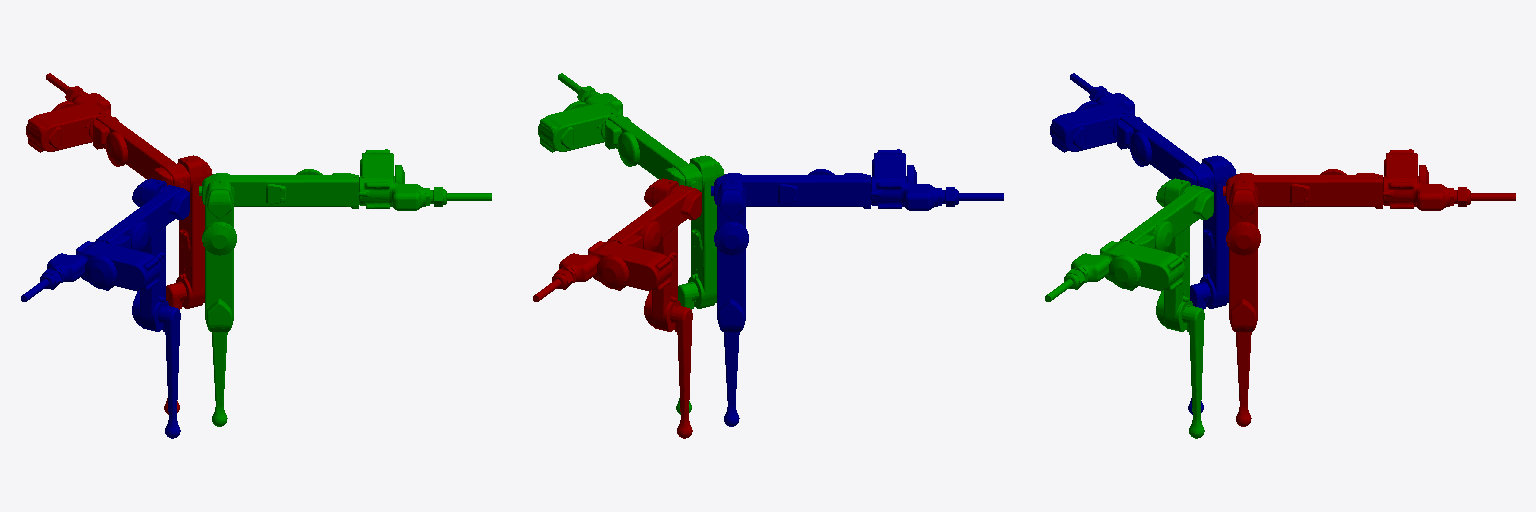
robot.urdf — finger_with_stage:
<?xml version="1.0" ?>
<!-- =================================================================================== -->
<!-- |    This document was autogenerated by xacro from robot_properties_fingers/xacro/trifinger.urdf.xacro | -->
<!-- |    EDITING THIS FILE BY HAND IS NOT RECOMMENDED                                 | -->
<!-- =================================================================================== -->
<robot name="finger_with_stage">
  <!--
    Frames are defined such that they all align with the base frame when all
    joints are at position zero.

    In zero-configuration the origins of all joints are in one line.

    In zero-configuration the origin of the base link is exactly above the
    finger tip which should make it easy to place the finger in the world.
    -->
  <!-- Define the global base_link and place all other objects relative to it. -->
  <link name="base_link">
    <inertial>
      <origin rpy="0 0 0" xyz="0 0 0"/>
      <mass value="1"/>
      <inertia ixx="4.166666666666667e-06" ixy="0" ixz="0" iyy="4.166666666666667e-06" iyz="0" izz="4.166666666666667e-06"/>
    </inertial>
  </link>
  <!-- Define the upper holder -->
  <link name="upper_holder_link">
    <inertial>
      <origin rpy="0 0 0" xyz="0 0 0"/>
      <mass value="1"/>
      <inertia ixx="4.166666666666667e-06" ixy="0" ixz="0" iyy="4.166666666666667e-06" iyz="0" izz="4.166666666666667e-06"/>
    </inertial>
  </link>
  <joint name="base_to_upper_holder_joint" type="fixed">
    <parent link="base_link"/>
    <child link="upper_holder_link"/>
    <origin xyz="0 0 0.29"/>
  </joint>
  <material name="finger_0_material">
    <color rgba="0.6 0.0 0.0 1.0"/>
  </material>
  <material name="finger_120_material">
    <color rgba="0.0 0.6 0.0 1.0"/>
  </material>
  <material name="finger_240_material">
    <color rgba="0.0 0.0 0.6 1.0"/>
  </material>
  <!--
        Fixed links for the finger base (parts where the upper link is mounted).
        -->
  <link name="finger_base_link_0">
    <visual>
      <origin rpy="0 0 0" xyz="0 0.179 0"/>
      <geometry>
        <mesh filename="package://robot_properties_fingers/meshes/SIM__BL-Finger_Base.stl" scale="1 1 1"/>
      </geometry>
      <material name="finger_0_material"/>
    </visual>
    <collision>
      <origin rpy="0 0 0" xyz="0 0.179 0"/>
      <geometry>
        <mesh filename="package://robot_properties_fingers/meshes/SIM__BL-Finger_Base.stl" scale="1 1 1"/>
      </geometry>
    </collision>
    <inertial>
      <origin rpy="0 0 0" xyz="0 0 0"/>
      <mass value="1"/>
      <inertia ixx="0.00041666666666666675" ixy="0" ixz="0" iyy="0.00041666666666666675" iyz="0" izz="0.00041666666666666675"/>
    </inertial>
  </link>
  <!-- The movable links (upper, middle and lower) of the finger. -->
  <!-- TODO inertia parameters don't look correct, they cant be same for upper and middle! -->
  <link name="finger_upper_link_0">
    <visual>
      <origin rpy="0 0 0" xyz="0 -0.02695 0"/>
      <geometry>
        <mesh filename="package://robot_properties_fingers/meshes/SIM__BL-Finger_Proximal.stl" scale="1 1 1"/>
      </geometry>
      <material name="finger_0_material"/>
    </visual>
    <collision>
      <origin rpy="0 0 0" xyz="0 -0.02695 0"/>
      <geometry>
        <mesh filename="package://robot_properties_fingers/meshes/SIM__BL-Finger_Proximal.stl" scale="1 1 1"/>
      </geometry>
    </collision>
    <inertial>
      <origin rpy="0 0 0" xyz="0 0.06 0"/>
      <mass value="0.2"/>
      <inertia ixx="0.0003533333333333334" ixy="0" ixz="0" iyy="5.333333333333333e-05" iyz="0" izz="0.0003533333333333334"/>
    </inertial>
  </link>
  <link name="finger_middle_link_0">
    <visual>
      <origin rpy="1.5707963267948966 0 0" xyz="0.014 0 0"/>
      <geometry>
        <mesh filename="package://robot_properties_fingers/meshes/SIM__BL-Finger_Intermediate.stl" scale="1 1 1"/>
      </geometry>
      <material name="finger_0_material"/>
    </visual>
    <collision>
      <origin rpy="1.5707963267948966 0 0" xyz="0.014 0 0"/>
      <geometry>
        <mesh filename="package://robot_properties_fingers/meshes/SIM__BL-Finger_Intermediate.stl" scale="1 1 1"/>
      </geometry>
    </collision>
    <inertial>
      <origin rpy="0 0 0" xyz="0.028 0 -0.08"/>
      <mass value="0.2"/>
      <inertia ixx="0.0003533333333333334" ixy="0" ixz="0" iyy="0.0003533333333333334" iyz="0" izz="5.333333333333333e-05"/>
    </inertial>
  </link>
  <link name="finger_lower_link_0">
    <visual>
      <origin rpy="1.5707963267948966 0 0" xyz="0.014 0 0"/>
      <geometry>
        <mesh filename="package://robot_properties_fingers/meshes/SIM_BL_FINGER_TIP_LINK.stl" scale="1 1 1"/>
      </geometry>
      <material name="finger_0_material"/>
    </visual>
    <collision>
      <origin rpy="1.5707963267948966 0 0" xyz="0.014 0 0"/>
      <geometry>
        <mesh filename="package://robot_properties_fingers/meshes/SIM_BL_FINGER_TIP_LINK.stl" scale="1 1 1"/>
      </geometry>
    </collision>
    <inertial>
      <origin rpy="0 0 0" xyz="0 0 -0.06"/>
      <mass value="0.01"/>
      <inertia ixx="1.6666666666666667e-05" ixy="0" ixz="0" iyy="1.6666666666666667e-05" iyz="0" izz="6.666666666666667e-07"/>
    </inertial>
  </link>
  <!-- fixed link for finger tip -->
  <link name="finger_tip_link_0">
    <inertial>
      <origin rpy="0 0 0" xyz="0 0 0"/>
      <mass value="0.02"/>
      <inertia ixx="3.3333333333333335e-07" ixy="0" ixz="0" iyy="3.3333333333333335e-07" iyz="0" izz="3.3333333333333335e-07"/>
    </inertial>
  </link>
  <joint name="finger_lower_to_tip_joint_0" type="fixed">
    <parent link="finger_lower_link_0"/>
    <child link="finger_tip_link_0"/>
    <origin xyz="0 0 -0.16"/>
  </joint>
  <!-- kinematics -->
  <!-- TODO: joint limits are based on values from wiki
        (https://atlas.is.localnet/confluence/display/AMDW/Forward+Kinematics) but
        should be verified on the real system (especially the finger tip limits look
        a bit too big when visualizing the model. -->
  <joint name="finger_base_to_upper_joint_0" type="revolute">
    <parent link="finger_base_link_0"/>
    <child link="finger_upper_link_0"/>
    <limit effort="1000" lower="-1.5707963267948966" upper="1.5707963267948966" velocity="1000"/>
    <axis xyz="0 1 0"/>
    <origin rpy="0 0 0" xyz="0 0 0"/>
  </joint>
  <joint name="finger_upper_to_middle_joint_0" type="revolute">
    <parent link="finger_upper_link_0"/>
    <child link="finger_middle_link_0"/>
    <limit effort="1000" lower="-1.3526301702956054" upper="4.494222823885399" velocity="1000"/>
    <axis xyz="-1 0 0"/>
    <origin rpy="0 0 0" xyz="0 0 0"/>
  </joint>
  <joint name="finger_middle_to_lower_joint_0" type="revolute">
    <parent link="finger_middle_link_0"/>
    <child link="finger_lower_link_0"/>
    <limit effort="1000" lower="-3.001966313430247" upper="3.001966313430247" velocity="1000"/>
    <axis xyz="1 0 0"/>
    <origin rpy="0 0 0" xyz="0 0 -0.16"/>
  </joint>
  <!--
        Fixed links for the finger base (parts where the upper link is mounted).
        -->
  <link name="finger_base_link_120">
    <visual>
      <origin rpy="0 0 0" xyz="0 0.179 0"/>
      <geometry>
        <mesh filename="package://robot_properties_fingers/meshes/SIM__BL-Finger_Base.stl" scale="1 1 1"/>
      </geometry>
      <material name="finger_120_material"/>
    </visual>
    <collision>
      <origin rpy="0 0 0" xyz="0 0.179 0"/>
      <geometry>
        <mesh filename="package://robot_properties_fingers/meshes/SIM__BL-Finger_Base.stl" scale="1 1 1"/>
      </geometry>
    </collision>
    <inertial>
      <origin rpy="0 0 0" xyz="0 0 0"/>
      <mass value="1"/>
      <inertia ixx="0.00041666666666666675" ixy="0" ixz="0" iyy="0.00041666666666666675" iyz="0" izz="0.00041666666666666675"/>
    </inertial>
  </link>
  <!-- The movable links (upper, middle and lower) of the finger. -->
  <!-- TODO inertia parameters don't look correct, they cant be same for upper and middle! -->
  <link name="finger_upper_link_120">
    <visual>
      <origin rpy="0 0 0" xyz="0 -0.02695 0"/>
      <geometry>
        <mesh filename="package://robot_properties_fingers/meshes/SIM__BL-Finger_Proximal.stl" scale="1 1 1"/>
      </geometry>
      <material name="finger_120_material"/>
    </visual>
    <collision>
      <origin rpy="0 0 0" xyz="0 -0.02695 0"/>
      <geometry>
        <mesh filename="package://robot_properties_fingers/meshes/SIM__BL-Finger_Proximal.stl" scale="1 1 1"/>
      </geometry>
    </collision>
    <inertial>
      <origin rpy="0 0 0" xyz="0 0.06 0"/>
      <mass value="0.2"/>
      <inertia ixx="0.0003533333333333334" ixy="0" ixz="0" iyy="5.333333333333333e-05" iyz="0" izz="0.0003533333333333334"/>
    </inertial>
  </link>
  <link name="finger_middle_link_120">
    <visual>
      <origin rpy="1.5707963267948966 0 0" xyz="0.014 0 0"/>
      <geometry>
        <mesh filename="package://robot_properties_fingers/meshes/SIM__BL-Finger_Intermediate.stl" scale="1 1 1"/>
      </geometry>
      <material name="finger_120_material"/>
    </visual>
    <collision>
      <origin rpy="1.5707963267948966 0 0" xyz="0.014 0 0"/>
      <geometry>
        <mesh filename="package://robot_properties_fingers/meshes/SIM__BL-Finger_Intermediate.stl" scale="1 1 1"/>
      </geometry>
    </collision>
    <inertial>
      <origin rpy="0 0 0" xyz="0.028 0 -0.08"/>
      <mass value="0.2"/>
      <inertia ixx="0.0003533333333333334" ixy="0" ixz="0" iyy="0.0003533333333333334" iyz="0" izz="5.333333333333333e-05"/>
    </inertial>
  </link>
  <link name="finger_lower_link_120">
    <visual>
      <origin rpy="1.5707963267948966 0 0" xyz="0.014 0 0"/>
      <geometry>
        <mesh filename="package://robot_properties_fingers/meshes/SIM_BL_FINGER_TIP_LINK.stl" scale="1 1 1"/>
      </geometry>
      <material name="finger_120_material"/>
    </visual>
    <collision>
      <origin rpy="1.5707963267948966 0 0" xyz="0.014 0 0"/>
      <geometry>
        <mesh filename="package://robot_properties_fingers/meshes/SIM_BL_FINGER_TIP_LINK.stl" scale="1 1 1"/>
      </geometry>
    </collision>
    <inertial>
      <origin rpy="0 0 0" xyz="0 0 -0.06"/>
      <mass value="0.01"/>
      <inertia ixx="1.6666666666666667e-05" ixy="0" ixz="0" iyy="1.6666666666666667e-05" iyz="0" izz="6.666666666666667e-07"/>
    </inertial>
  </link>
  <!-- fixed link for finger tip -->
  <link name="finger_tip_link_120">
    <inertial>
      <origin rpy="0 0 0" xyz="0 0 0"/>
      <mass value="0.02"/>
      <inertia ixx="3.3333333333333335e-07" ixy="0" ixz="0" iyy="3.3333333333333335e-07" iyz="0" izz="3.3333333333333335e-07"/>
    </inertial>
  </link>
  <joint name="finger_lower_to_tip_joint_120" type="fixed">
    <parent link="finger_lower_link_120"/>
    <child link="finger_tip_link_120"/>
    <origin xyz="0 0 -0.16"/>
  </joint>
  <!-- kinematics -->
  <!-- TODO: joint limits are based on values from wiki
        (https://atlas.is.localnet/confluence/display/AMDW/Forward+Kinematics) but
        should be verified on the real system (especially the finger tip limits look
        a bit too big when visualizing the model. -->
  <joint name="finger_base_to_upper_joint_120" type="revolute">
    <parent link="finger_base_link_120"/>
    <child link="finger_upper_link_120"/>
    <limit effort="1000" lower="-1.5707963267948966" upper="1.5707963267948966" velocity="1000"/>
    <axis xyz="0 1 0"/>
    <origin rpy="0 0 0" xyz="0 0 0"/>
  </joint>
  <joint name="finger_upper_to_middle_joint_120" type="revolute">
    <parent link="finger_upper_link_120"/>
    <child link="finger_middle_link_120"/>
    <limit effort="1000" lower="-1.3526301702956054" upper="4.494222823885399" velocity="1000"/>
    <axis xyz="-1 0 0"/>
    <origin rpy="0 0 0" xyz="0 0 0"/>
  </joint>
  <joint name="finger_middle_to_lower_joint_120" type="revolute">
    <parent link="finger_middle_link_120"/>
    <child link="finger_lower_link_120"/>
    <limit effort="1000" lower="-3.001966313430247" upper="3.001966313430247" velocity="1000"/>
    <axis xyz="1 0 0"/>
    <origin rpy="0 0 0" xyz="0 0 -0.16"/>
  </joint>
  <!--
        Fixed links for the finger base (parts where the upper link is mounted).
        -->
  <link name="finger_base_link_240">
    <visual>
      <origin rpy="0 0 0" xyz="0 0.179 0"/>
      <geometry>
        <mesh filename="package://robot_properties_fingers/meshes/SIM__BL-Finger_Base.stl" scale="1 1 1"/>
      </geometry>
      <material name="finger_240_material"/>
    </visual>
    <collision>
      <origin rpy="0 0 0" xyz="0 0.179 0"/>
      <geometry>
        <mesh filename="package://robot_properties_fingers/meshes/SIM__BL-Finger_Base.stl" scale="1 1 1"/>
      </geometry>
    </collision>
    <inertial>
      <origin rpy="0 0 0" xyz="0 0 0"/>
      <mass value="1"/>
      <inertia ixx="0.00041666666666666675" ixy="0" ixz="0" iyy="0.00041666666666666675" iyz="0" izz="0.00041666666666666675"/>
    </inertial>
  </link>
  <!-- The movable links (upper, middle and lower) of the finger. -->
  <!-- TODO inertia parameters don't look correct, they cant be same for upper and middle! -->
  <link name="finger_upper_link_240">
    <visual>
      <origin rpy="0 0 0" xyz="0 -0.02695 0"/>
      <geometry>
        <mesh filename="package://robot_properties_fingers/meshes/SIM__BL-Finger_Proximal.stl" scale="1 1 1"/>
      </geometry>
      <material name="finger_240_material"/>
    </visual>
    <collision>
      <origin rpy="0 0 0" xyz="0 -0.02695 0"/>
      <geometry>
        <mesh filename="package://robot_properties_fingers/meshes/SIM__BL-Finger_Proximal.stl" scale="1 1 1"/>
      </geometry>
    </collision>
    <inertial>
      <origin rpy="0 0 0" xyz="0 0.06 0"/>
      <mass value="0.2"/>
      <inertia ixx="0.0003533333333333334" ixy="0" ixz="0" iyy="5.333333333333333e-05" iyz="0" izz="0.0003533333333333334"/>
    </inertial>
  </link>
  <link name="finger_middle_link_240">
    <visual>
      <origin rpy="1.5707963267948966 0 0" xyz="0.014 0 0"/>
      <geometry>
        <mesh filename="package://robot_properties_fingers/meshes/SIM__BL-Finger_Intermediate.stl" scale="1 1 1"/>
      </geometry>
      <material name="finger_240_material"/>
    </visual>
    <collision>
      <origin rpy="1.5707963267948966 0 0" xyz="0.014 0 0"/>
      <geometry>
        <mesh filename="package://robot_properties_fingers/meshes/SIM__BL-Finger_Intermediate.stl" scale="1 1 1"/>
      </geometry>
    </collision>
    <inertial>
      <origin rpy="0 0 0" xyz="0.028 0 -0.08"/>
      <mass value="0.2"/>
      <inertia ixx="0.0003533333333333334" ixy="0" ixz="0" iyy="0.0003533333333333334" iyz="0" izz="5.333333333333333e-05"/>
    </inertial>
  </link>
  <link name="finger_lower_link_240">
    <visual>
      <origin rpy="1.5707963267948966 0 0" xyz="0.014 0 0"/>
      <geometry>
        <mesh filename="package://robot_properties_fingers/meshes/SIM_BL_FINGER_TIP_LINK.stl" scale="1 1 1"/>
      </geometry>
      <material name="finger_240_material"/>
    </visual>
    <collision>
      <origin rpy="1.5707963267948966 0 0" xyz="0.014 0 0"/>
      <geometry>
        <mesh filename="package://robot_properties_fingers/meshes/SIM_BL_FINGER_TIP_LINK.stl" scale="1 1 1"/>
      </geometry>
    </collision>
    <inertial>
      <origin rpy="0 0 0" xyz="0 0 -0.06"/>
      <mass value="0.01"/>
      <inertia ixx="1.6666666666666667e-05" ixy="0" ixz="0" iyy="1.6666666666666667e-05" iyz="0" izz="6.666666666666667e-07"/>
    </inertial>
  </link>
  <!-- fixed link for finger tip -->
  <link name="finger_tip_link_240">
    <inertial>
      <origin rpy="0 0 0" xyz="0 0 0"/>
      <mass value="0.02"/>
      <inertia ixx="3.3333333333333335e-07" ixy="0" ixz="0" iyy="3.3333333333333335e-07" iyz="0" izz="3.3333333333333335e-07"/>
    </inertial>
  </link>
  <joint name="finger_lower_to_tip_joint_240" type="fixed">
    <parent link="finger_lower_link_240"/>
    <child link="finger_tip_link_240"/>
    <origin xyz="0 0 -0.16"/>
  </joint>
  <!-- kinematics -->
  <!-- TODO: joint limits are based on values from wiki
        (https://atlas.is.localnet/confluence/display/AMDW/Forward+Kinematics) but
        should be verified on the real system (especially the finger tip limits look
        a bit too big when visualizing the model. -->
  <joint name="finger_base_to_upper_joint_240" type="revolute">
    <parent link="finger_base_link_240"/>
    <child link="finger_upper_link_240"/>
    <limit effort="1000" lower="-1.5707963267948966" upper="1.5707963267948966" velocity="1000"/>
    <axis xyz="0 1 0"/>
    <origin rpy="0 0 0" xyz="0 0 0"/>
  </joint>
  <joint name="finger_upper_to_middle_joint_240" type="revolute">
    <parent link="finger_upper_link_240"/>
    <child link="finger_middle_link_240"/>
    <limit effort="1000" lower="-1.3526301702956054" upper="4.494222823885399" velocity="1000"/>
    <axis xyz="-1 0 0"/>
    <origin rpy="0 0 0" xyz="0 0 0"/>
  </joint>
  <joint name="finger_middle_to_lower_joint_240" type="revolute">
    <parent link="finger_middle_link_240"/>
    <child link="finger_lower_link_240"/>
    <limit effort="1000" lower="-3.001966313430247" upper="3.001966313430247" velocity="1000"/>
    <axis xyz="1 0 0"/>
    <origin rpy="0 0 0" xyz="0 0 -0.16"/>
  </joint>
  <joint name="holder_to_finger_0" type="fixed">
    <parent link="upper_holder_link"/>
    <child link="finger_base_link_0"/>
    <origin rpy="0 0 0" xyz="0.0 0.04 0"/>
  </joint>
  <joint name="holder_to_finger_120" type="fixed">
    <parent link="upper_holder_link"/>
    <child link="finger_base_link_120"/>
    <origin rpy="0 0 -2.0943951023931953" xyz="0.034641016151377546 -0.01999999999999999 0"/>
  </joint>
  <joint name="holder_to_finger_240" type="fixed">
    <parent link="upper_holder_link"/>
    <child link="finger_base_link_240"/>
    <origin rpy="0 0 -4.1887902047863905" xyz="-0.03464101615137754 -0.020000000000000018 0"/>
  </joint>
</robot>

--- Facts derived from the render (not from the file) ---
3 views of the same robot in one strip: view 1: azimuth 30°, elevation 25°; view 2: azimuth 150°, elevation 25°; view 3: azimuth 270°, elevation 25° (orthographic).
Model finger_with_stage with 17 links and 16 joints (9 revolute, 7 fixed), rooted at base_link, posed every joint at zero.
Visible links, largest first — view 1: finger_upper_link_120, finger_base_link_240, finger_middle_link_120, finger_base_link_120, finger_base_link_0, finger_upper_link_0, finger_middle_link_0, finger_upper_link_240, finger_middle_link_240, finger_lower_link_240, finger_lower_link_120; view 2: finger_upper_link_240, finger_base_link_0, finger_middle_link_240, finger_base_link_240, finger_base_link_120, finger_upper_link_120, finger_middle_link_120, finger_upper_link_0, finger_middle_link_0, finger_lower_link_0, finger_lower_link_240; view 3: finger_upper_link_0, finger_base_link_120, finger_middle_link_0, finger_base_link_0, finger_base_link_240, finger_upper_link_240, finger_middle_link_240, finger_upper_link_120, finger_middle_link_120, finger_lower_link_120, finger_lower_link_0.
Boxes of the visible links, <box> form: finger_upper_link_120: <box>199,169,358,208</box>; finger_base_link_240: <box>21,240,160,301</box>; finger_middle_link_120: <box>202,180,236,332</box>; finger_base_link_120: <box>359,149,491,210</box>; finger_base_link_0: <box>26,73,118,152</box>; finger_upper_link_0: <box>93,114,189,191</box>; finger_middle_link_0: <box>176,155,212,308</box>; finger_upper_link_240: <box>96,185,189,251</box>; finger_middle_link_240: <box>132,178,168,331</box>; finger_lower_link_240: <box>158,305,180,438</box>; finger_lower_link_120: <box>212,333,227,426</box>; finger_upper_link_240: <box>711,169,870,208</box>; finger_base_link_0: <box>533,240,672,301</box>; finger_middle_link_240: <box>714,180,748,332</box>; finger_base_link_240: <box>871,149,1003,210</box>; finger_base_link_120: <box>538,73,630,152</box>; finger_upper_link_120: <box>605,114,701,191</box>; finger_middle_link_120: <box>688,155,724,308</box>; finger_upper_link_0: <box>608,185,701,251</box>; finger_middle_link_0: <box>644,178,680,331</box>; finger_lower_link_0: <box>670,305,692,438</box>; finger_lower_link_240: <box>724,333,739,426</box>; finger_upper_link_0: <box>1223,169,1382,208</box>; finger_base_link_120: <box>1045,240,1184,301</box>; finger_middle_link_0: <box>1226,180,1260,332</box>; finger_base_link_0: <box>1383,149,1515,210</box>; finger_base_link_240: <box>1050,73,1142,152</box>; finger_upper_link_240: <box>1117,114,1213,191</box>; finger_middle_link_240: <box>1200,155,1236,308</box>; finger_upper_link_120: <box>1120,185,1213,251</box>; finger_middle_link_120: <box>1156,178,1192,331</box>; finger_lower_link_120: <box>1182,305,1204,438</box>; finger_lower_link_0: <box>1236,333,1251,426</box>.
Size in the robot's own frame: 0.6726 by 0.5986 by 0.354 metres.
12 mesh visuals loaded from 4 distinct referenced files (4 binary STL).
